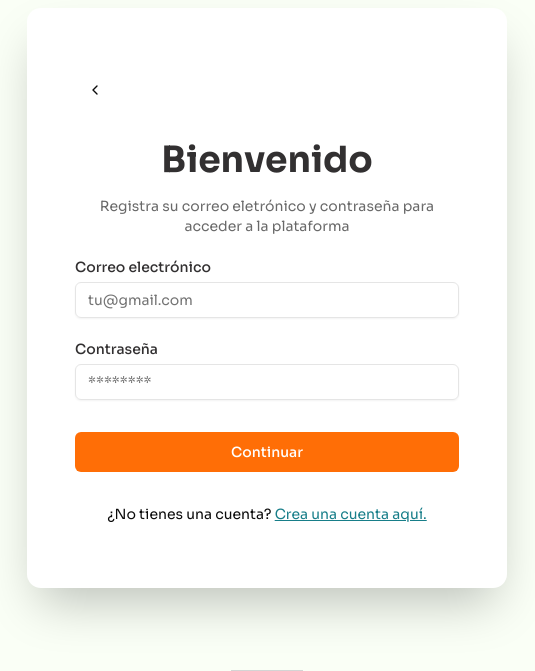
LoginPage › muestra error de validación si el correo está vacío
Click the button "Continuar".
click(267, 452)  # box [75,432,459,472]
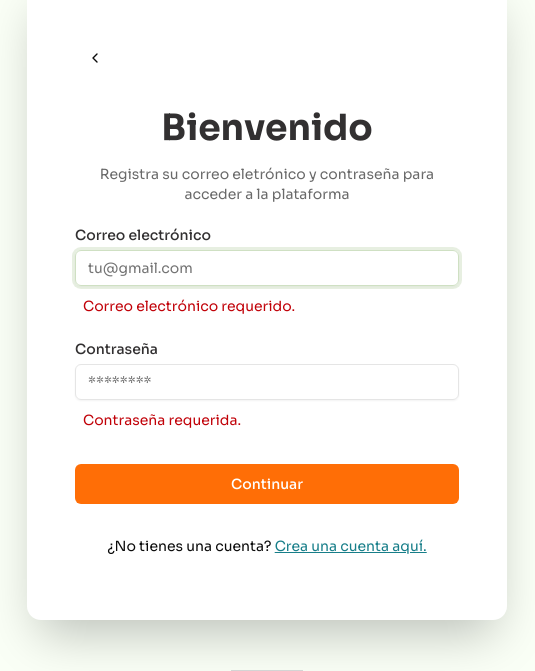
Expected: the text "Correo electrónico requerido." is shown, [83,297,295,315]
